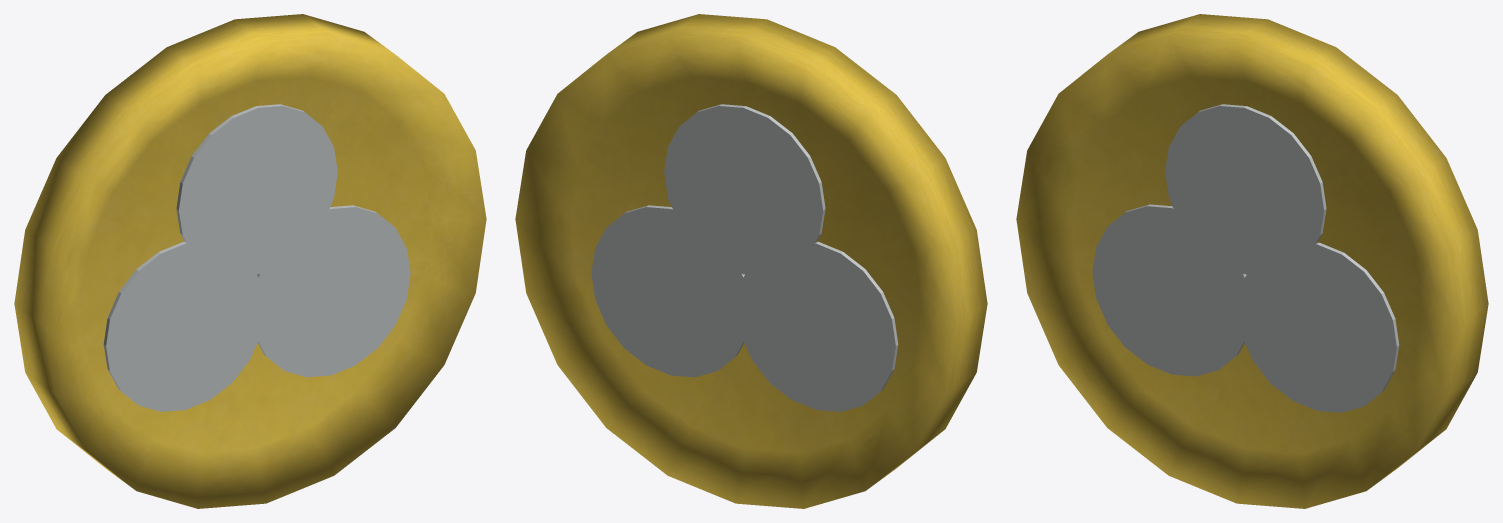
Rendered from coin2.fbx.
The picture shows the model from 3 angles, left to right: view 1: azimuth 30°, elevation 25°; view 2: azimuth 150°, elevation 25°; view 3: azimuth 330°, elevation 25°; orthographic projection.
Visible parts, largest first — view 1: pCylinder1, pCylinder4, pCylinder2, pCylinder3; view 2: pCylinder1, pCylinder3, pCylinder4, pCylinder2; view 3: pCylinder1, pCylinder4, pCylinder2, pCylinder3.
Boxes of the visible parts, x1,y1,x2,y2 form: pCylinder1: [14, 14, 486, 508]; pCylinder4: [103, 241, 264, 411]; pCylinder2: [176, 104, 337, 276]; pCylinder3: [251, 205, 410, 377]; pCylinder1: [515, 14, 987, 508]; pCylinder3: [591, 205, 750, 377]; pCylinder4: [737, 241, 898, 411]; pCylinder2: [664, 104, 825, 276]; pCylinder1: [1016, 14, 1488, 508]; pCylinder4: [1092, 204, 1249, 376]; pCylinder2: [1165, 104, 1326, 276]; pCylinder3: [1238, 242, 1399, 412].
Size of the model in its own units: 2 by 2 by 0.2459.
